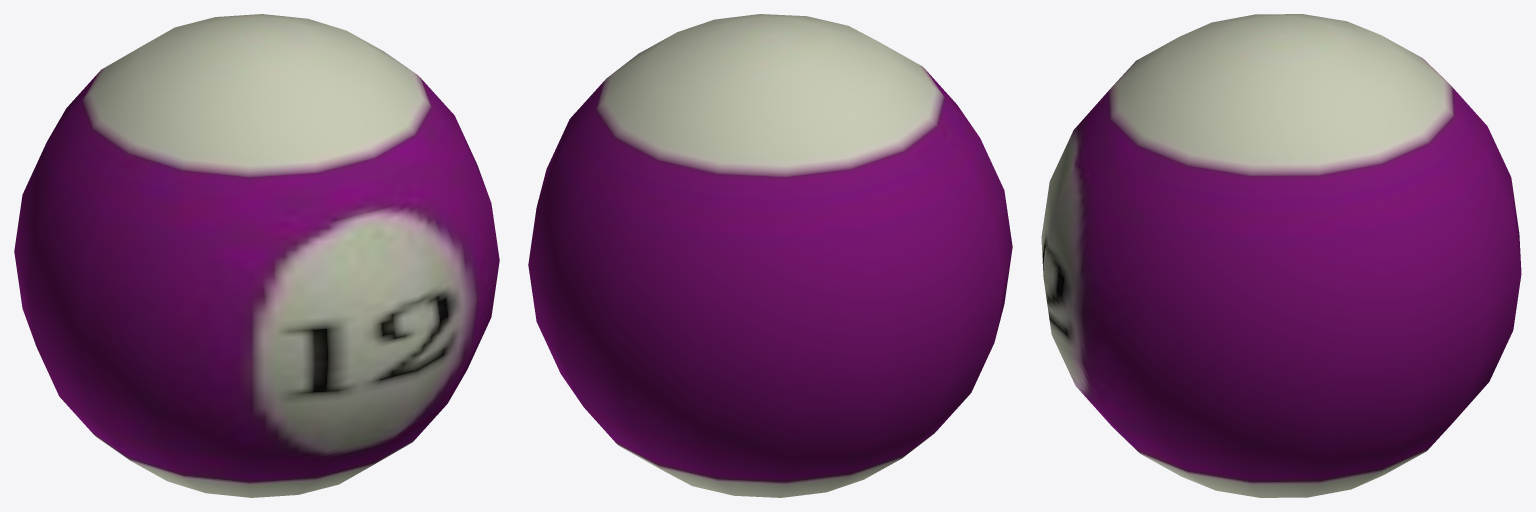
The picture shows the model from 3 angles, left to right: view 1: azimuth 30°, elevation 25°; view 2: azimuth 150°, elevation 25°; view 3: azimuth 270°, elevation 25°; orthographic projection.
Visible parts, largest first — view 1: bi_a_12; view 2: bi_a_12; view 3: bi_a_12.
Boxes of the visible parts, box(x1,y1,x2,y2) form: bi_a_12: box(14, 14, 499, 497); bi_a_12: box(528, 14, 1012, 497); bi_a_12: box(1041, 14, 1521, 497).
Bounding box in the file's own units: 12.94 × 13.13 × 12.94.
